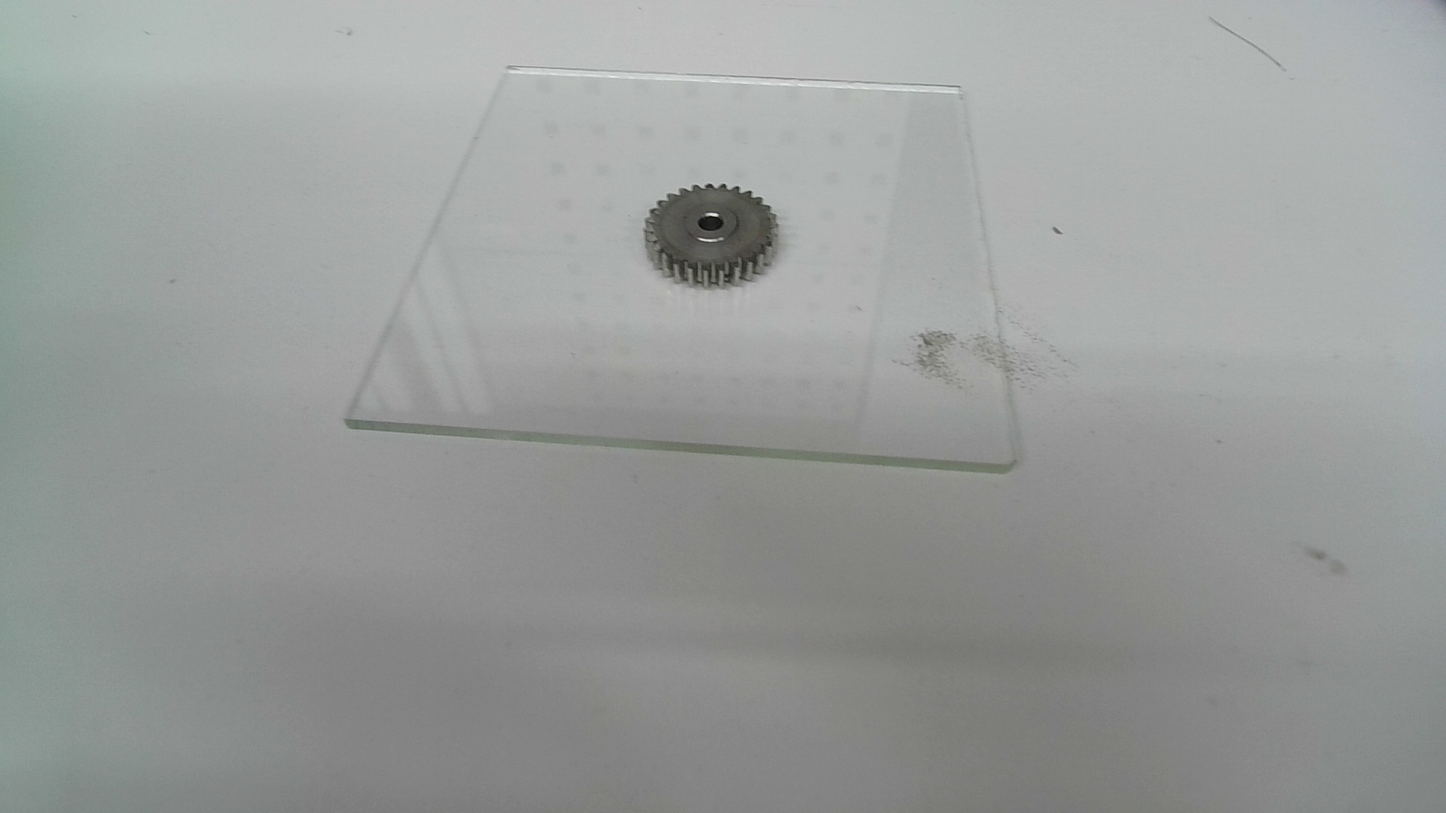gear: (642, 181, 782, 290)
